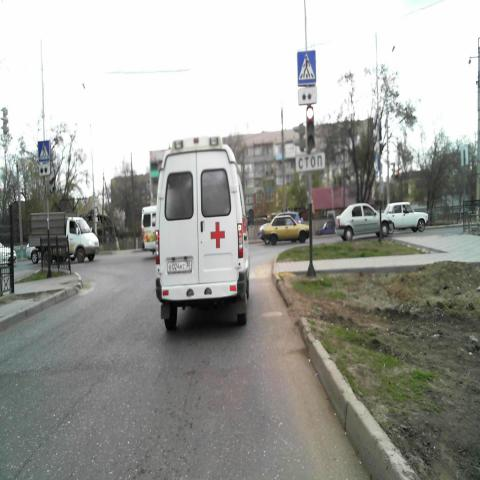6_16: (296, 154, 326, 170)
8_15: (38, 163, 50, 174)
